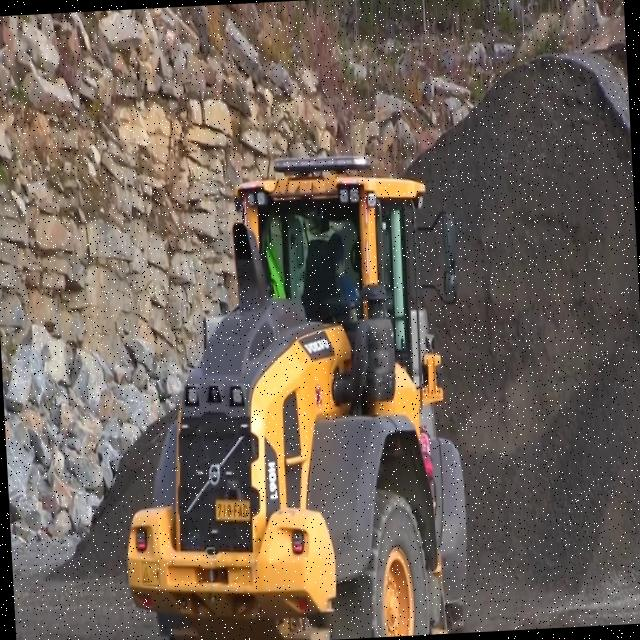Loader: (99, 137, 480, 640)
